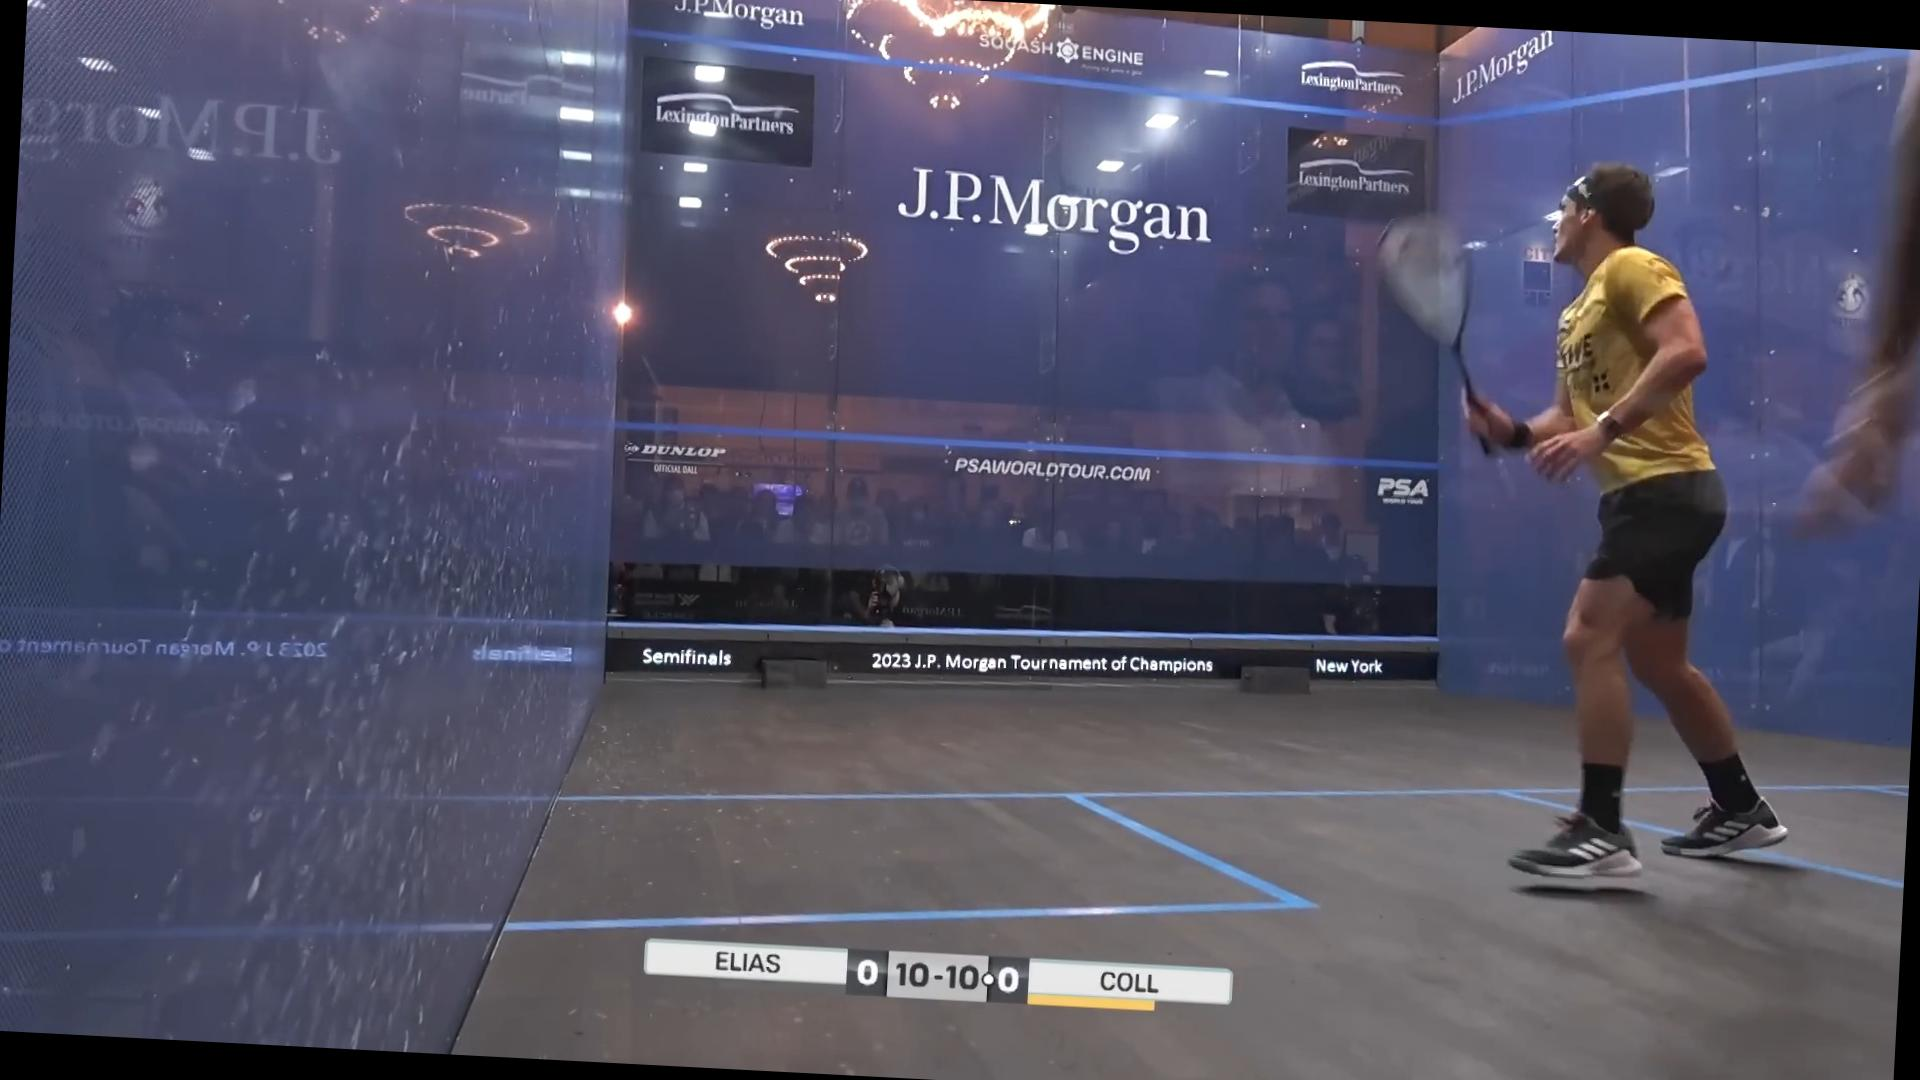Racket: (1353, 196, 1506, 464)
